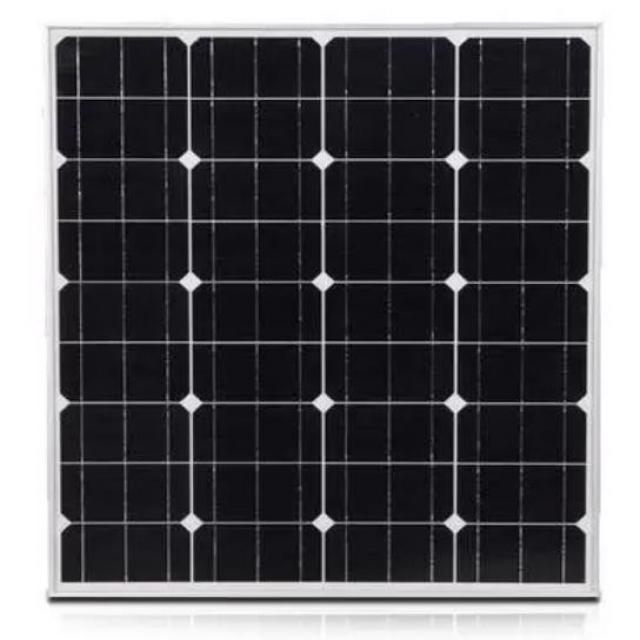no faulty: (47, 23, 598, 601)
